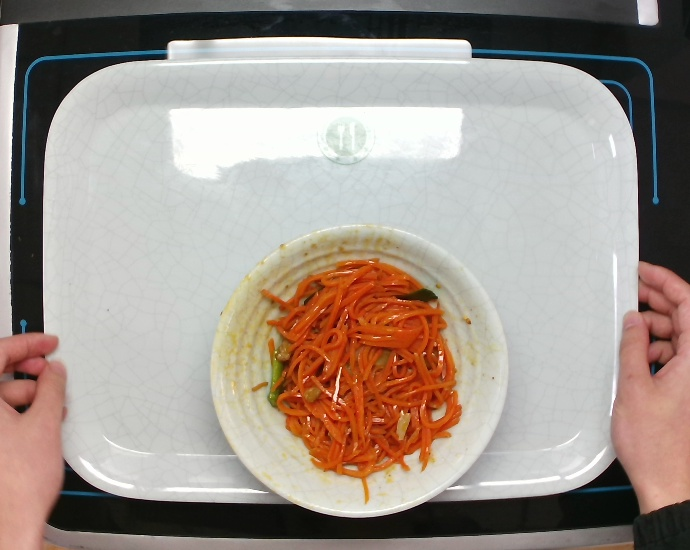JYsf-Xiao_Tang_Wan: (209, 222, 509, 523)
